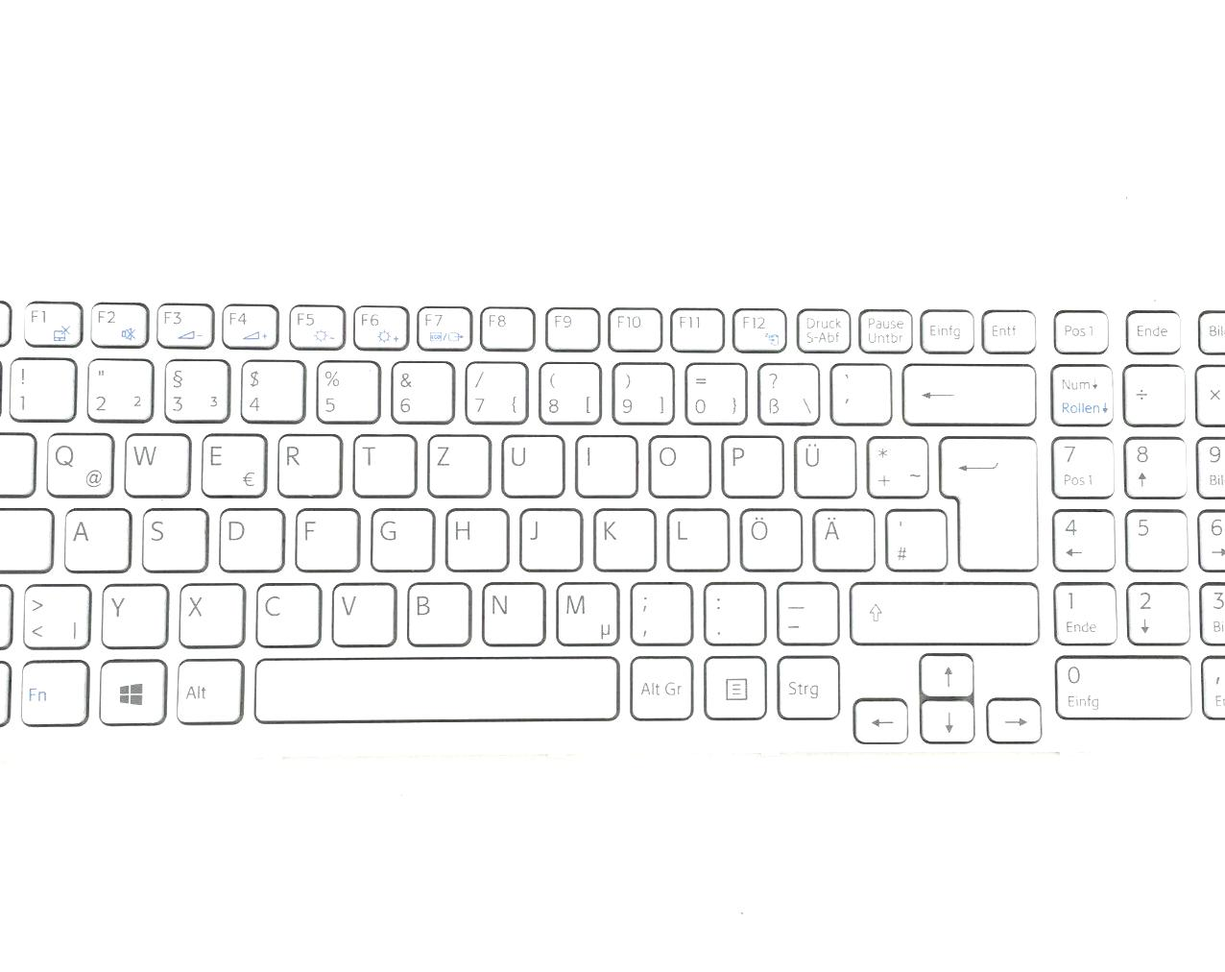0: (681, 357, 745, 422)
1: (6, 353, 74, 419)
2: (84, 354, 152, 419)
3: (158, 354, 228, 420)
4: (237, 355, 302, 420)
5: (312, 355, 377, 420)
6: (386, 356, 452, 421)
7: (463, 357, 527, 422)
8: (535, 358, 598, 422)
9: (608, 358, 672, 422)
a: (60, 503, 128, 570)
accent: (827, 358, 889, 422)
ae: (809, 504, 873, 569)
alt-left: (171, 655, 240, 721)
altgr-right: (627, 652, 691, 717)
b: (401, 577, 468, 643)
c: (251, 578, 318, 644)
caret: (1, 352, 26, 418)
comma: (626, 577, 690, 642)
d: (215, 503, 280, 570)
del: (898, 357, 1033, 422)
e: (198, 430, 264, 496)
enter: (934, 432, 1036, 568)
f: (292, 504, 356, 569)
g: (367, 504, 430, 569)
h: (441, 504, 505, 569)
hash: (882, 505, 945, 569)
i: (572, 430, 635, 494)
j: (516, 504, 579, 569)
k: (589, 503, 653, 569)
keyboard: (1, 286, 1225, 756)
l: (663, 504, 726, 568)
less: (18, 579, 89, 646)
m: (550, 577, 616, 643)
minus: (772, 578, 836, 642)
n: (477, 577, 541, 643)
o: (643, 430, 707, 495)
oe: (735, 504, 799, 569)
p: (717, 430, 781, 494)
plus: (863, 431, 926, 495)
point: (700, 578, 763, 642)
q: (42, 428, 111, 496)
r: (274, 430, 339, 495)
s: (138, 504, 204, 570)
shift-left: (1, 579, 36, 646)
shift-lock: (1, 503, 55, 570)
shift-right: (844, 576, 1038, 642)
space: (250, 651, 615, 720)
ss: (753, 359, 816, 422)
strg-left: (1, 657, 36, 725)
strg-right: (773, 652, 838, 717)
t: (349, 430, 413, 495)
tab: (1, 427, 44, 495)
u: (497, 430, 561, 495)
ue: (790, 431, 853, 495)
v: (326, 578, 393, 644)
w: (119, 427, 187, 495)
x: (175, 579, 241, 644)
y: (97, 579, 165, 645)
z: (424, 430, 488, 495)
